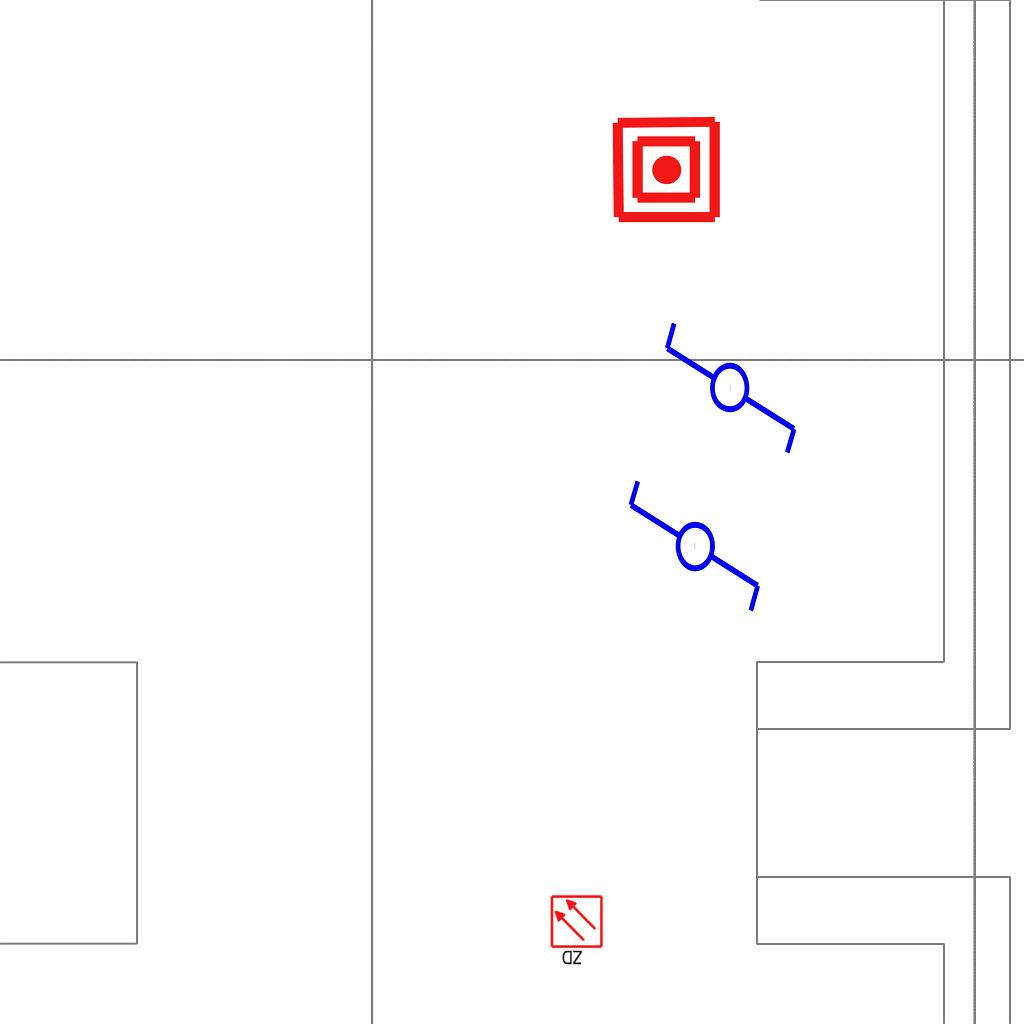NAM-Nichtautomatischer_Melder: (610, 113, 723, 226)
Wechselschalter: (621, 476, 765, 633), (660, 301, 804, 458)
ZD_Melder_in_Zwischendecke_mit_Revisionsoeffnung_mind_40_x_40_cm: (549, 894, 606, 968)
